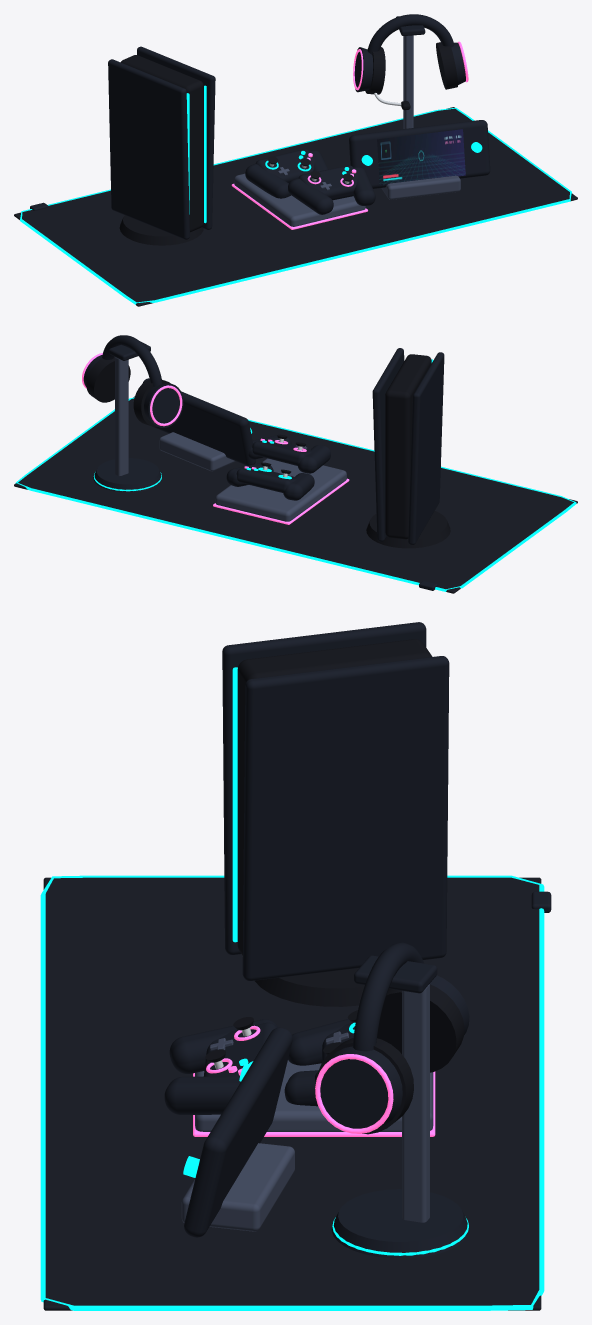
The model's file is atelier-gaming-loadout-console-cyber.glb.
The picture shows the model from 3 angles, top to bottom: view 1: azimuth 30°, elevation 25°; view 2: azimuth 150°, elevation 25°; view 3: azimuth 270°, elevation 25°; orthographic projection. The views are drawn at different scales.
Parts seen in each view (by area): view 1: object 1, object 8, Gaming handheld display, object 5, object 43, object 2, object 9, object 10, object 42, object 51, object 4, object 27 (+10 smaller); view 2: object 1, object 8, object 5, object 10, object 43, object 2, object 9, object 47, object 49, object 42, object 4, object 53 (+9 smaller); view 3: object 1, object 9, object 2, object 43, object 47, object 8, object 49, object 5, object 56, object 42, object 52, object 51 (+12 smaller).
Part boxes in pixels (x1,y1,x2,y2): object 1: (14,107,577,306); object 8: (108,59,189,239); Gaming handheld display: (377,129,465,185); object 5: (120,55,203,232); object 43: (349,120,490,188); object 2: (20,107,571,304); object 9: (137,46,215,229); object 10: (234,173,365,226); object 42: (381,175,460,199); object 51: (367,14,454,54); object 4: (119,215,203,245); object 27: (298,165,358,200); object 1: (14,396,577,593); object 8: (408,352,444,544); object 5: (385,354,431,539); object 10: (215,458,346,521); object 43: (142,378,255,465); object 2: (15,397,576,591); object 9: (372,348,404,541); object 47: (93,458,162,492); object 49: (115,357,128,475); object 42: (159,432,235,471); object 4: (366,511,450,548); object 53: (144,383,183,427); object 1: (43,877,541,1310); object 9: (242,656,449,980); object 2: (40,875,544,1310); object 43: (184,1027,292,1237); object 47: (331,1189,469,1258); object 8: (222,622,426,954); object 49: (402,984,429,1222); object 5: (237,639,432,955); object 56: (320,1046,402,1129); object 42: (181,1143,294,1231); object 52: (377,984,464,1072); object 51: (352,942,424,1051).
Bounding box in the file's own units: 0.9452 × 0.331 × 0.4716.
Materials: 8 (1 with a texture image).
